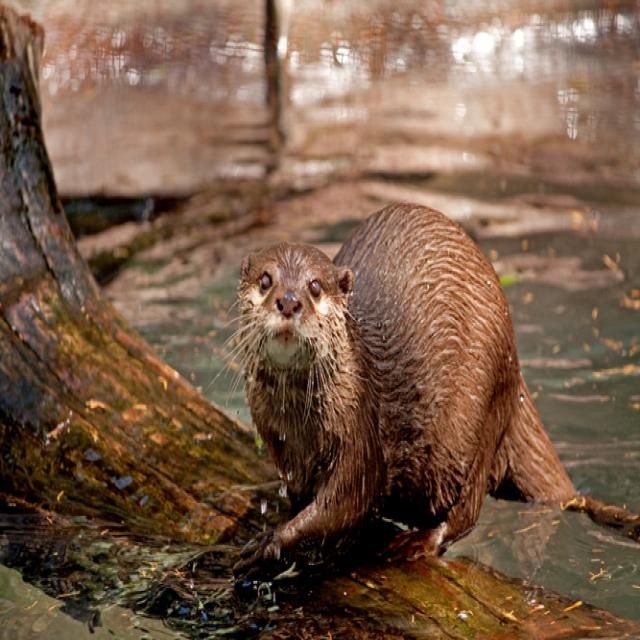otter: (239, 202, 576, 561)
